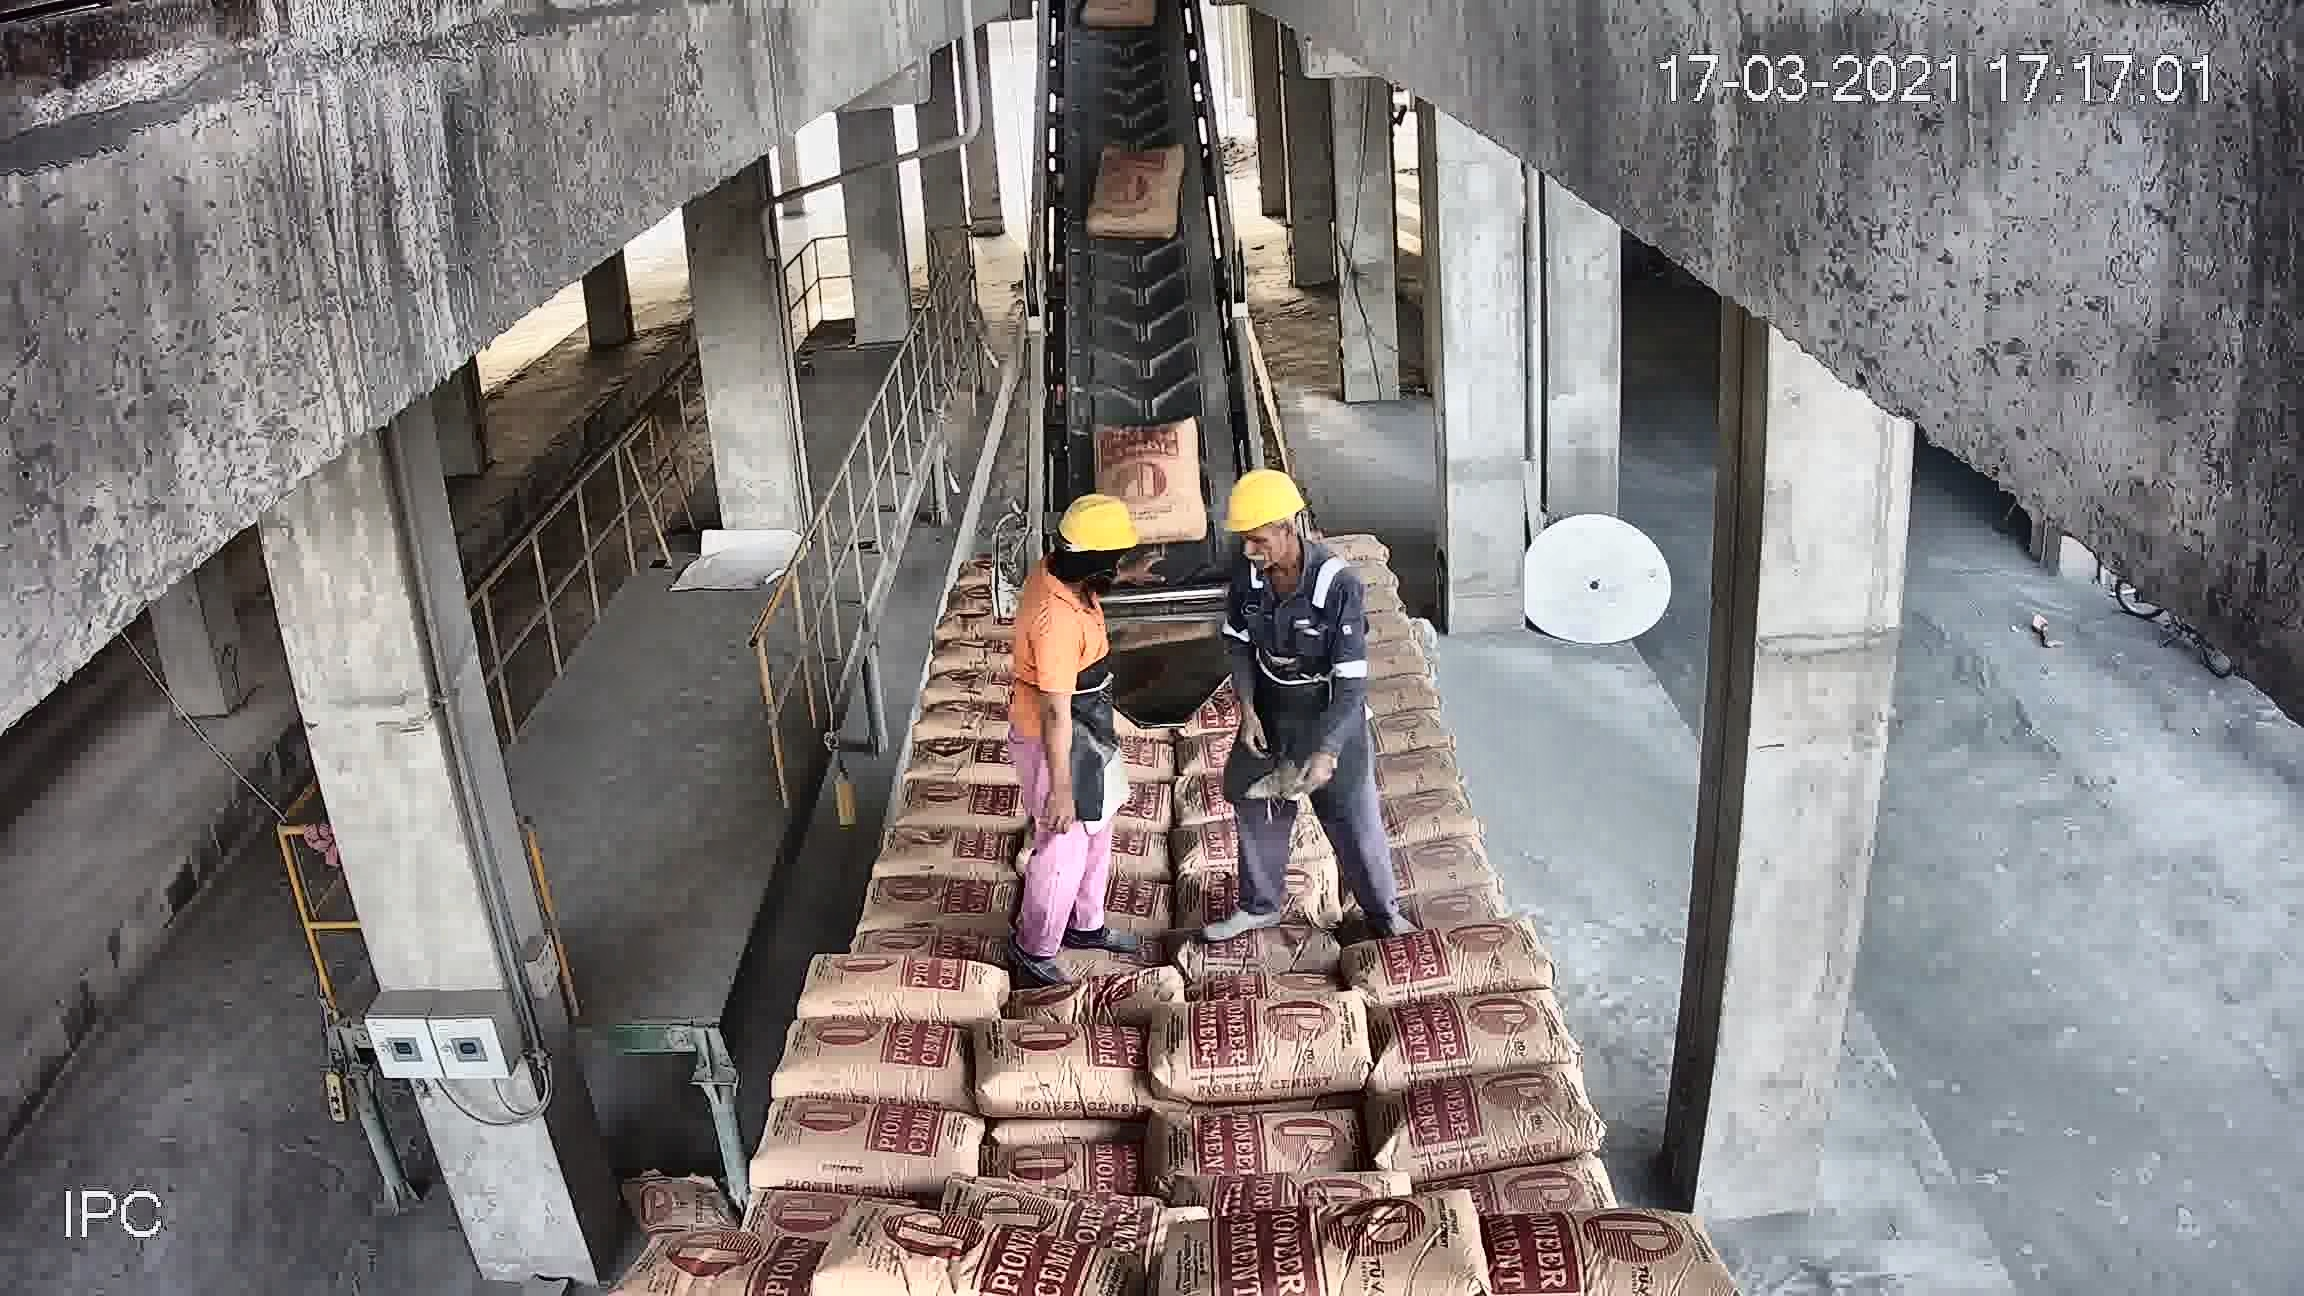bag_h: (1150, 1201, 1483, 1291), (813, 1207, 1131, 1293), (1492, 1201, 1741, 1296), (1147, 997, 1367, 1098), (748, 1101, 983, 1196), (1367, 1074, 1590, 1173), (758, 1014, 973, 1114), (968, 1013, 1154, 1124), (1146, 1105, 1370, 1192), (1370, 987, 1579, 1078), (1353, 915, 1556, 1002), (609, 1222, 809, 1296), (802, 951, 1003, 1021), (1423, 1161, 1612, 1230), (861, 851, 1025, 927), (1168, 919, 1331, 989), (1348, 885, 1521, 945), (873, 817, 1022, 885), (851, 919, 1021, 975), (891, 774, 1021, 836), (1396, 824, 1499, 896), (891, 733, 1022, 786), (1374, 791, 1470, 858), (904, 695, 1014, 750), (1358, 703, 1454, 760), (1377, 750, 1472, 802)
bag_v: (1090, 411, 1203, 525), (1093, 139, 1188, 241)
belt: (1032, 22, 1242, 687)
